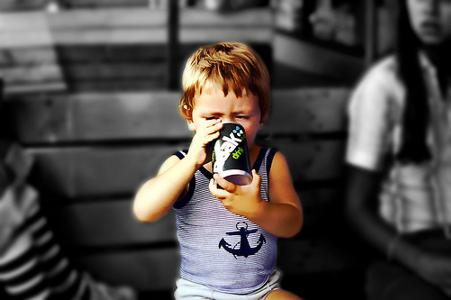person: (129, 42, 306, 300)
